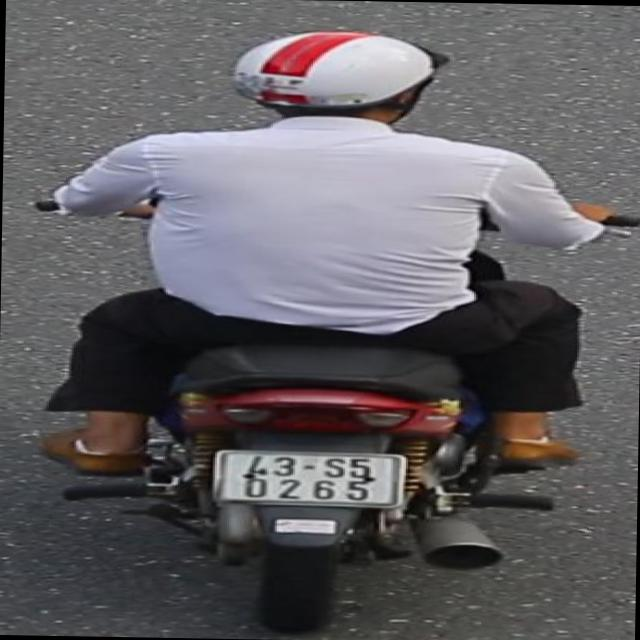LP: (209, 446, 412, 514)
helmet: (224, 25, 443, 141)
